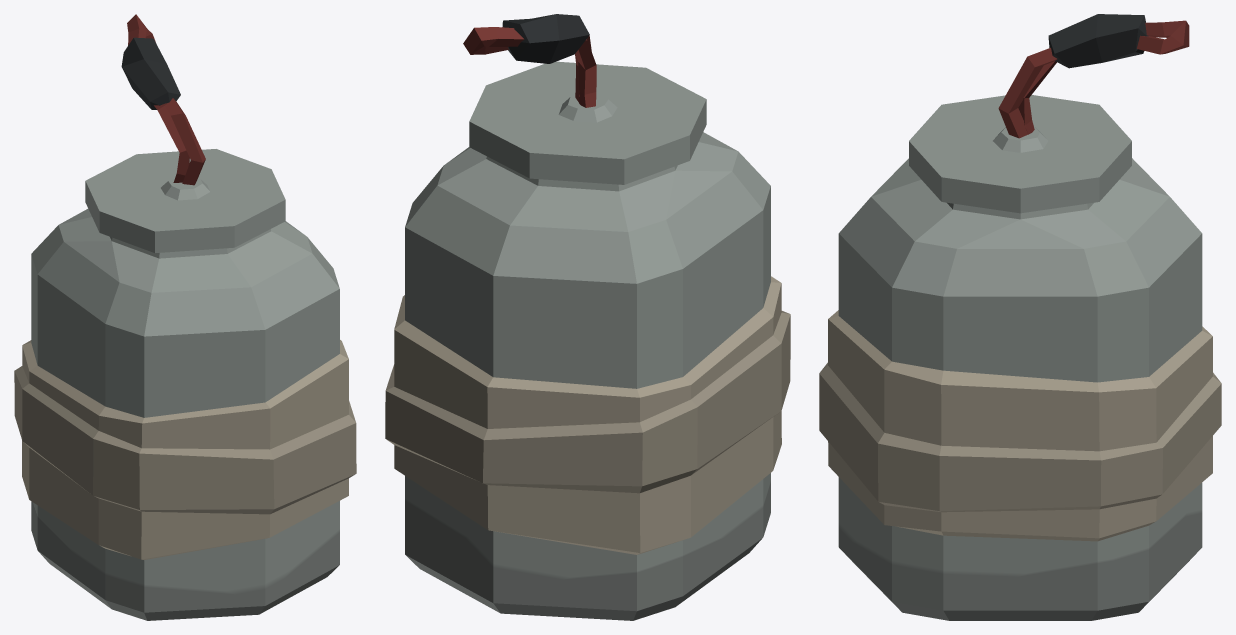
File: SM_Prop_IED_05.glb
The picture shows the model from 3 angles, left to right: view 1: azimuth 30°, elevation 25°; view 2: azimuth 150°, elevation 25°; view 3: azimuth 270°, elevation 25°; orthographic projection. The views are drawn at different scales.
Parts seen in each view (by area): view 1: SM_Prop_IED_05; view 2: SM_Prop_IED_05; view 3: SM_Prop_IED_05.
Boxes of the visible parts, x1,y1,x2,y2 form: SM_Prop_IED_05: (14, 14, 356, 620); SM_Prop_IED_05: (385, 14, 790, 620); SM_Prop_IED_05: (819, 14, 1221, 620).
Bounding box in the file's own units: 0.2049 × 0.3738 × 0.2456.
Materials: 1 (1 with a texture image).
